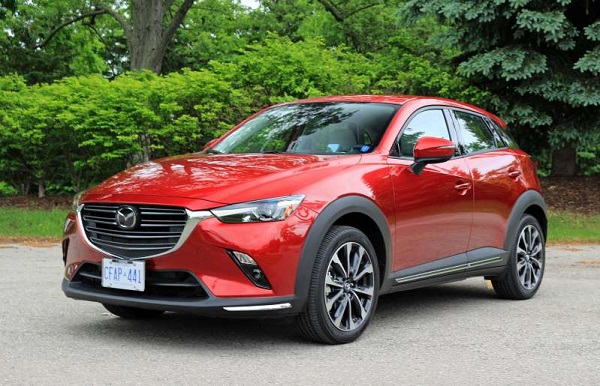pickup: (60, 93, 549, 344)
